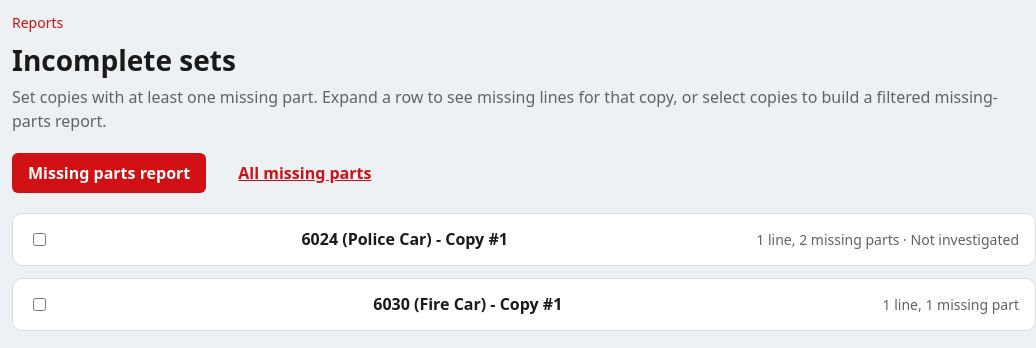
Test: IncompleteSetsReportPage › navigates with owned_set_ids for a partial selection
Expected: the link "6024 (Police Car) - Copy #1" is shown, x1=302 y1=228 x2=508 y2=250
Click the checkbox named "Select 6024 (Police Car) - Copy #1".
click(40, 239)  # box x1=33 y1=233 x2=46 y2=246
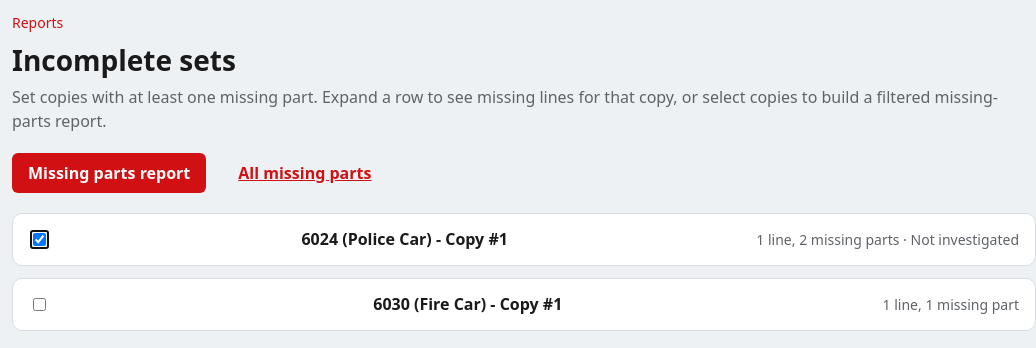
Click the button "Missing parts report".
click(109, 173)  # box x1=12 y1=153 x2=206 y2=193
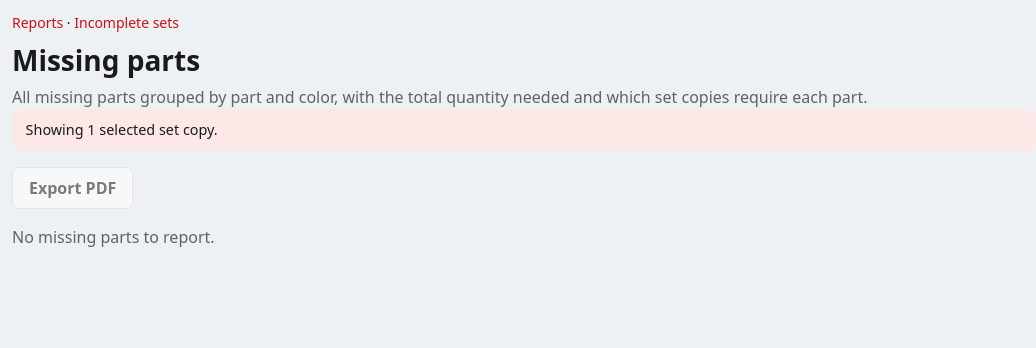
Expected: the text "Showing 1 selected set copy." is shown, x1=12 y1=109 x2=1035 y2=151
